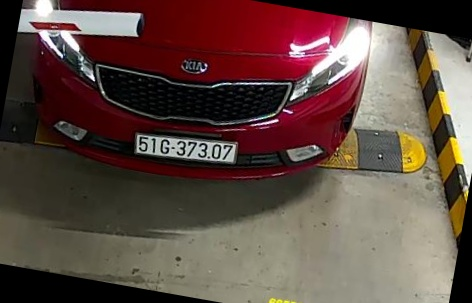plate: (129, 127, 239, 169)
